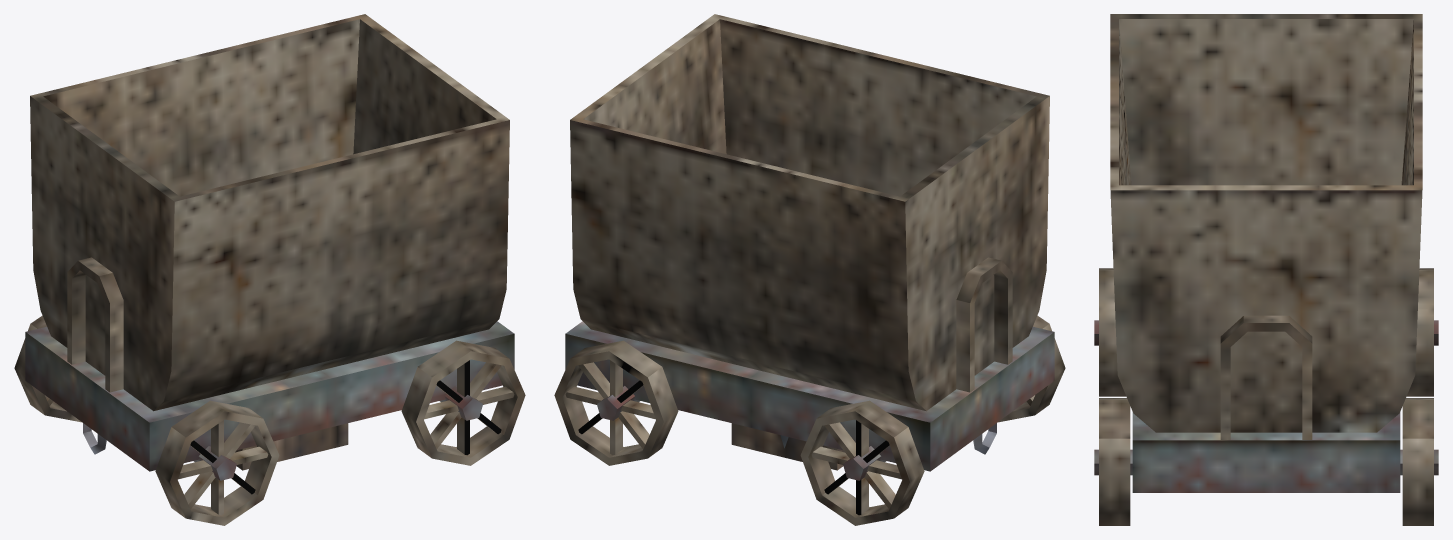
The model's file is MineEquipment_Models.fbx.
The picture shows the model from 3 angles, left to right: view 1: azimuth 30°, elevation 25°; view 2: azimuth 150°, elevation 25°; view 3: azimuth 270°, elevation 25°; orthographic projection. The views are drawn at different scales.
Parts seen in each view (by area): view 1: Mine_Wagon, Mine_Detonator; view 2: Mine_Wagon, Mine_Detonator; view 3: Mine_Wagon.
Part boxes in pixels (left/top/right/bottom): Mine_Wagon: left=14, top=14, right=525, bottom=525; Mine_Detonator: left=235, top=423, right=348, bottom=470; Mine_Wagon: left=554, top=14, right=1065, bottom=525; Mine_Detonator: left=731, top=423, right=844, bottom=470; Mine_Wagon: left=1094, top=14, right=1438, bottom=525.
Size of the model in its own units: 1.77 by 1.53 by 1.34.
Materials: 1 (1 with a texture image).
